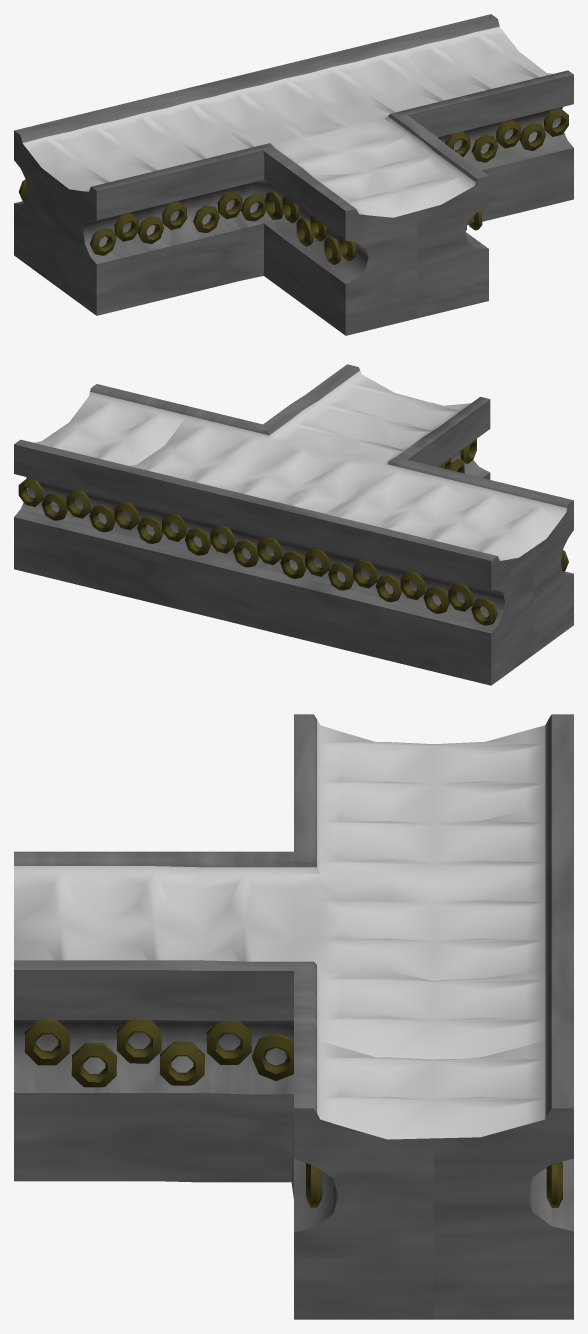
The model's file is FM-012-ConveyerBelt-Cross.fbx.
The picture shows the model from 3 angles, top to bottom: view 1: azimuth 30°, elevation 25°; view 2: azimuth 150°, elevation 25°; view 3: azimuth 270°, elevation 25°; orthographic projection. The views are drawn at different scales.
Visible parts, largest first — view 1: FM-012-ConveyerBelt-Cross; view 2: FM-012-ConveyerBelt-Cross; view 3: FM-012-ConveyerBelt-Cross.
Part boxes in pixels (x1,y1,x2,y2): FM-012-ConveyerBelt-Cross: (14,14,573,335); FM-012-ConveyerBelt-Cross: (14,364,573,685); FM-012-ConveyerBelt-Cross: (14,714,573,1319).
Bounding box in the file's own units: 400 × 240 × 100.
